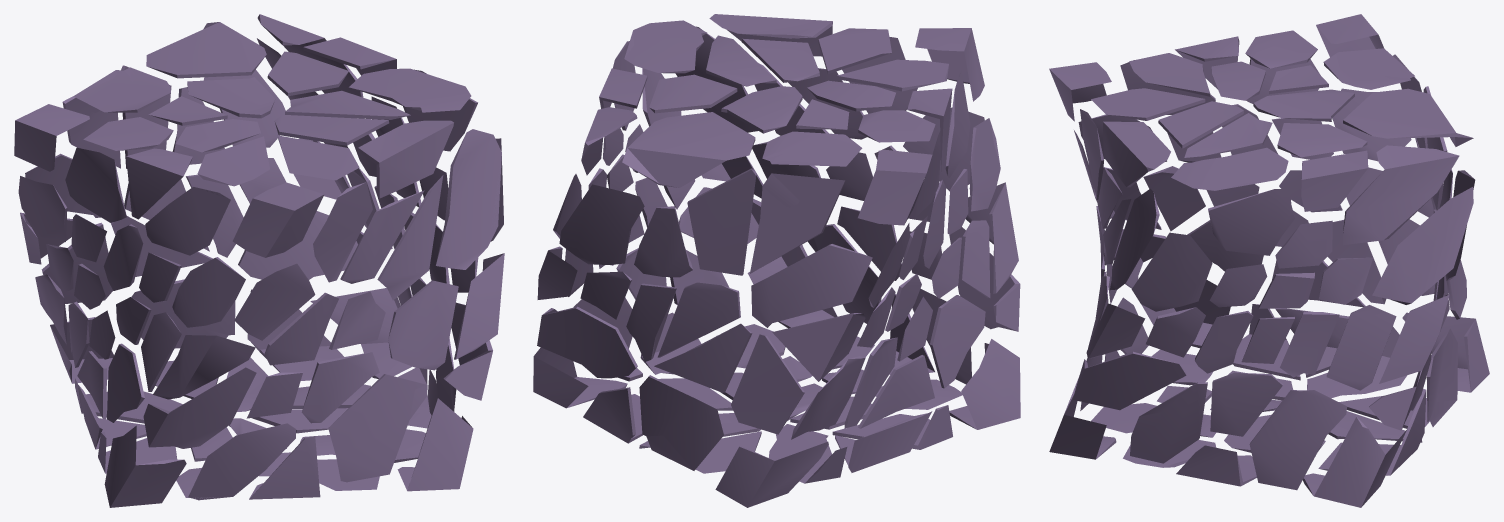
3 views of the same model, side by side, from view 1: azimuth 30°, elevation 25°; view 2: azimuth 150°, elevation 25°; view 3: azimuth 270°, elevation 25° (orthographic). The views are drawn at different scales.
Visible parts, largest first — view 1: Cubes_01; view 2: Cubes_01; view 3: Cubes_01.
Boxes of the visible parts, <box> form: Cubes_01: <box>14,14,504,507</box>; Cubes_01: <box>533,14,1020,507</box>; Cubes_01: <box>1049,14,1489,507</box>.
Size of the model in its own units: 278 by 213 by 276.
Materials: 1 (1 with a texture image).
